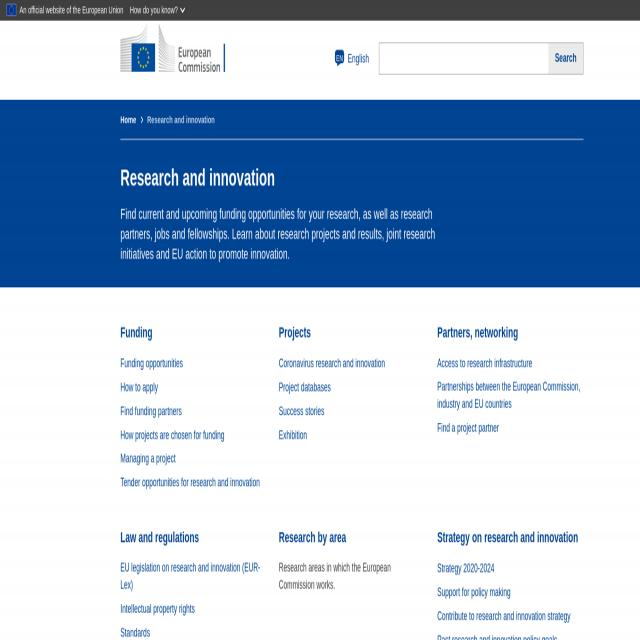button: (120, 24, 238, 76), (548, 42, 584, 75)
field: (379, 42, 549, 75)
